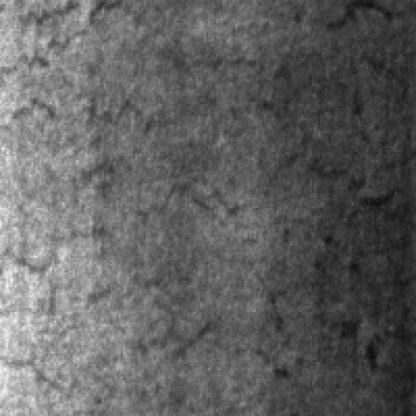crazing: (2, 2, 298, 316), (310, 175, 412, 368)
